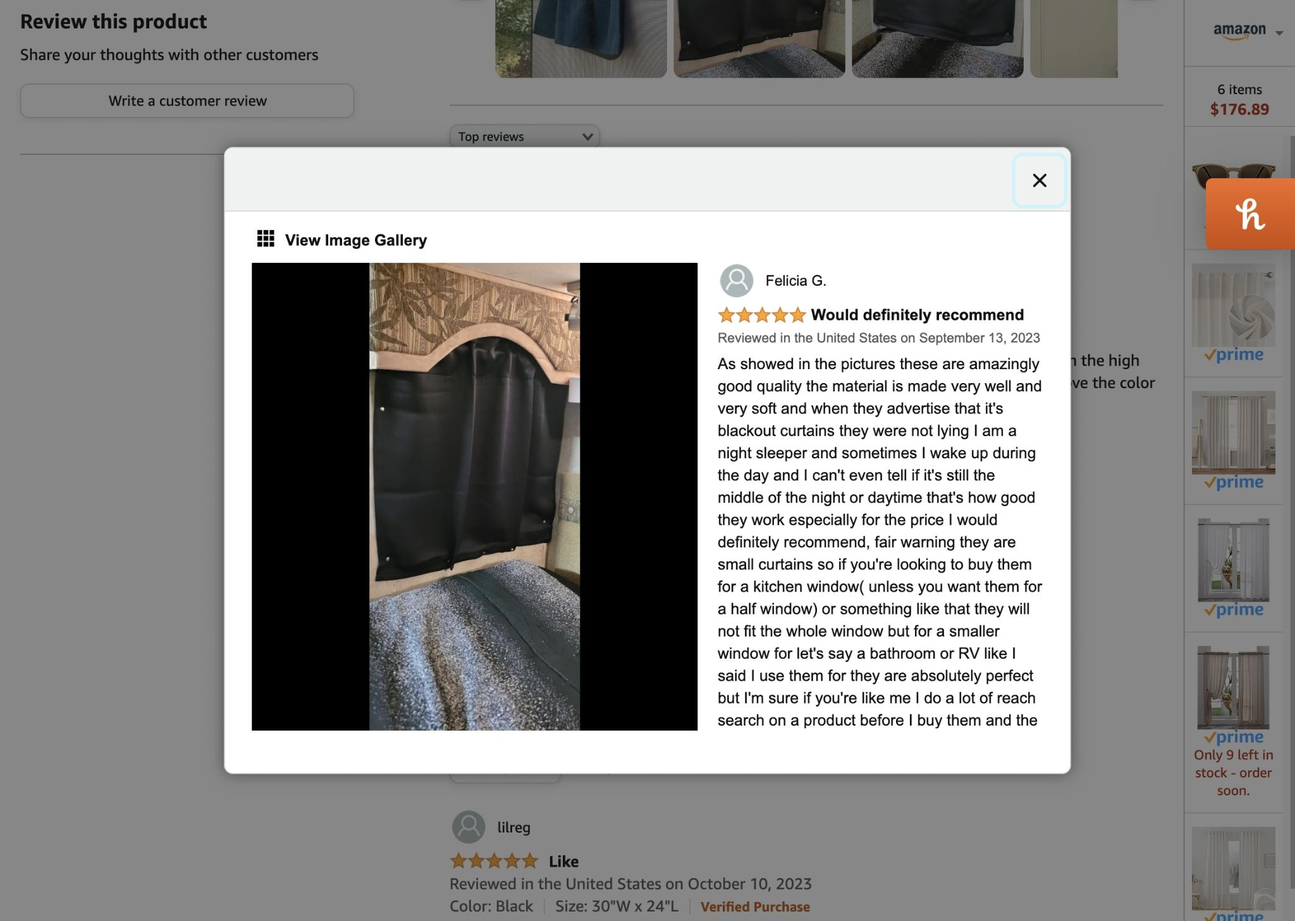webelement: (448, 123, 1162, 921), (223, 146, 1070, 773), (717, 354, 1041, 818), (368, 262, 578, 729), (448, 350, 1153, 413), (19, 7, 353, 117), (251, 229, 1042, 262), (448, 718, 1162, 740), (1184, 0, 1294, 97), (20, 84, 352, 116), (448, 424, 542, 522), (1191, 518, 1275, 602), (1191, 645, 1275, 729), (448, 719, 839, 737), (1191, 135, 1275, 218), (1191, 263, 1275, 346), (1191, 390, 1275, 473), (1191, 827, 1275, 910), (448, 670, 811, 688), (448, 874, 811, 892), (448, 301, 781, 320), (448, 323, 720, 342), (717, 330, 1040, 345), (284, 229, 425, 262), (716, 835, 904, 859), (448, 692, 678, 710), (448, 896, 678, 914), (717, 261, 826, 298), (1193, 746, 1272, 797), (548, 279, 768, 297), (448, 604, 554, 641), (811, 305, 1023, 323), (450, 546, 558, 578), (450, 750, 558, 782), (448, 648, 629, 666), (448, 808, 529, 845), (448, 235, 526, 273), (722, 865, 775, 918), (782, 865, 835, 918), (448, 125, 598, 143), (1015, 155, 1063, 204), (448, 278, 537, 298), (448, 851, 537, 871), (448, 426, 542, 444), (448, 648, 537, 667), (717, 306, 806, 325), (742, 326, 851, 341), (700, 694, 809, 709), (700, 898, 809, 913), (548, 648, 630, 666), (448, 235, 485, 273), (448, 604, 485, 641), (448, 808, 485, 845), (717, 261, 754, 298), (1191, 262, 1275, 278), (1191, 134, 1275, 149), (1191, 389, 1275, 404), (1191, 517, 1275, 532), (1191, 644, 1275, 659), (1191, 826, 1275, 841), (1204, 473, 1262, 490), (496, 614, 554, 631), (765, 272, 826, 288), (1204, 219, 1262, 235), (1204, 346, 1262, 362), (1204, 601, 1262, 617), (1204, 729, 1262, 745), (457, 128, 523, 142), (1209, 102, 1268, 117), (588, 552, 635, 570), (588, 756, 635, 774), (1214, 25, 1265, 40), (1216, 80, 1260, 95), (1203, 910, 1262, 921), (496, 818, 529, 836), (496, 245, 526, 263), (547, 852, 577, 870)
